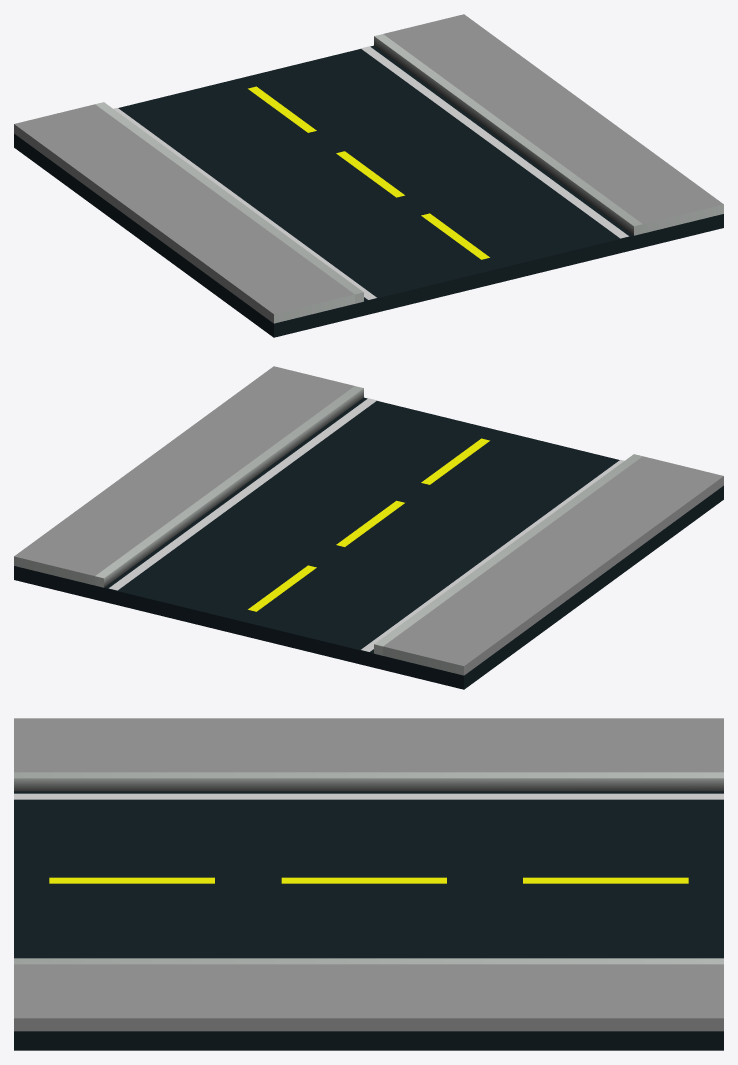
File: cbgt_free_v0.4.0._road_straight_v1.0.0.glb
The picture shows the model from 3 angles, top to bottom: view 1: azimuth 30°, elevation 25°; view 2: azimuth 150°, elevation 25°; view 3: azimuth 270°, elevation 25°; orthographic projection. The views are drawn at different scales.
Parts seen in each view (by area): view 1: cbgt_free_v0.4.0_road_straight_v1.0.0; view 2: cbgt_free_v0.4.0_road_straight_v1.0.0; view 3: cbgt_free_v0.4.0_road_straight_v1.0.0.
Part boxes in pixels (<box>): cbgt_free_v0.4.0_road_straight_v1.0.0: <box>14,14,723,337</box>; cbgt_free_v0.4.0_road_straight_v1.0.0: <box>14,366,723,689</box>; cbgt_free_v0.4.0_road_straight_v1.0.0: <box>14,718,723,1050</box>.
Bounding box in the file's own units: 10 × 0.5 × 10.
1 material, 1 textured.
